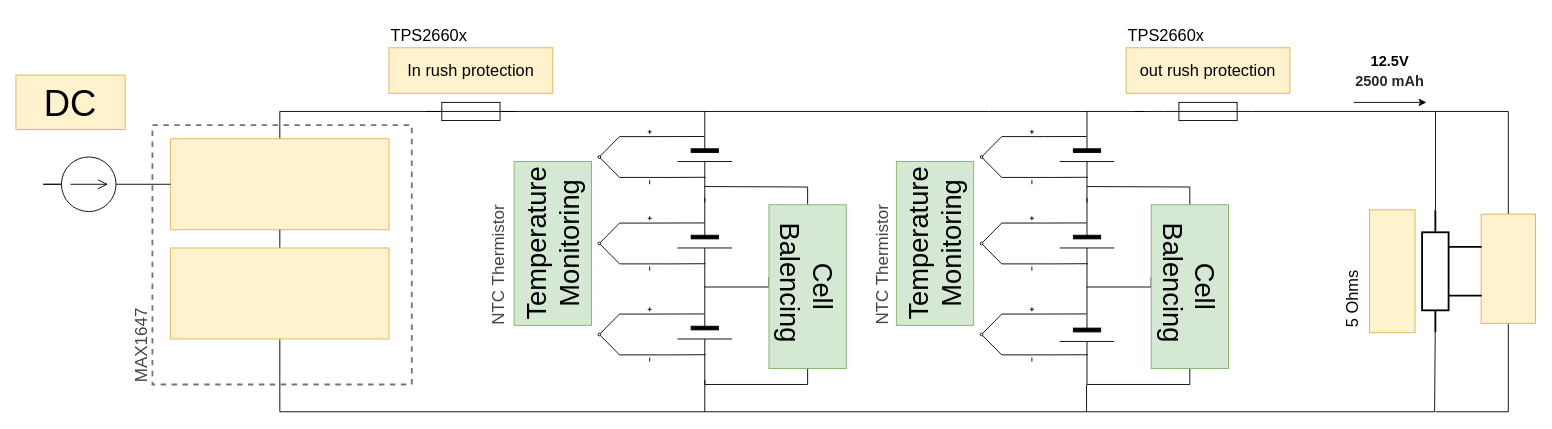
Image size: 1552x429. Some labels were removed from this diagram. Here are the shapes that lost their labels. From the top down, the centre of each, then its label:
[279,184]: Charging
[1392,271]: current shunt
[1508,268]: Load
[279,293]: Discharging
